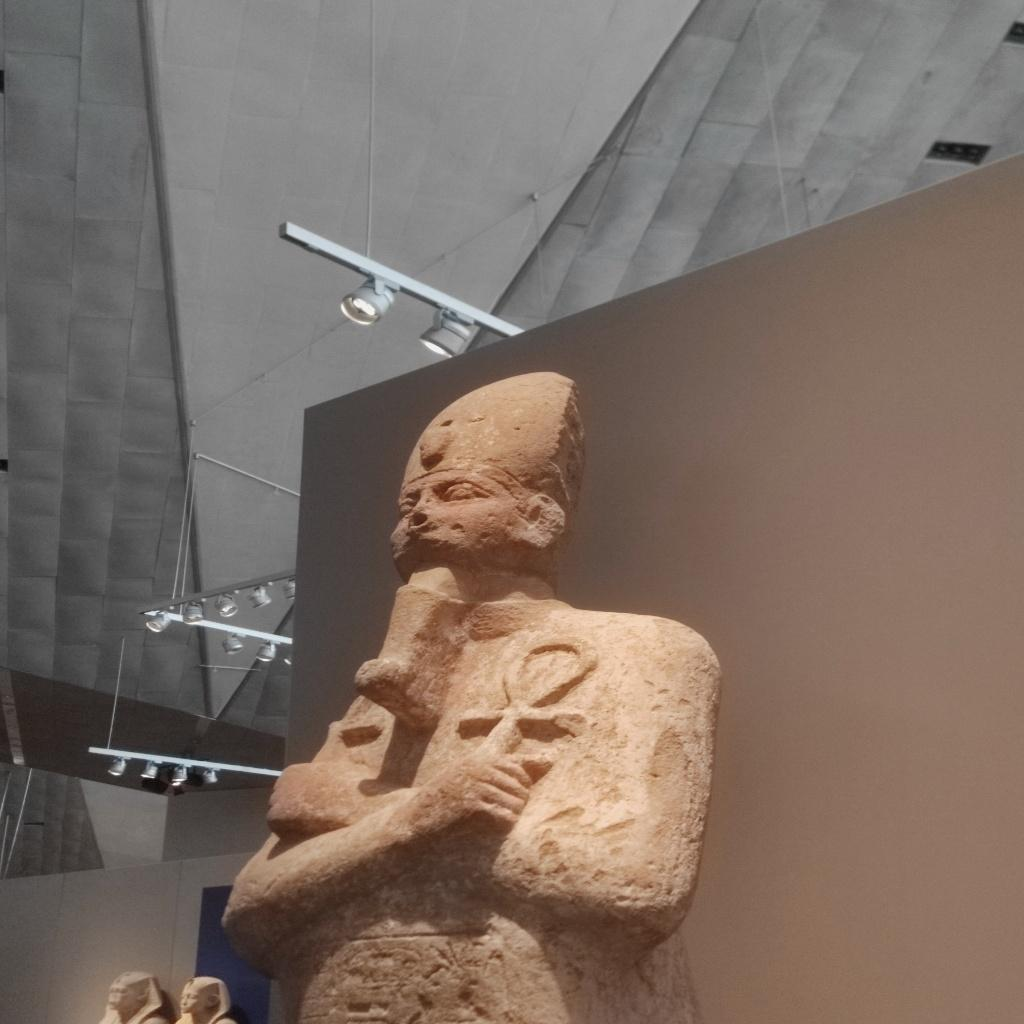Statue of Mentuhotep II: (225, 356, 716, 1024)
